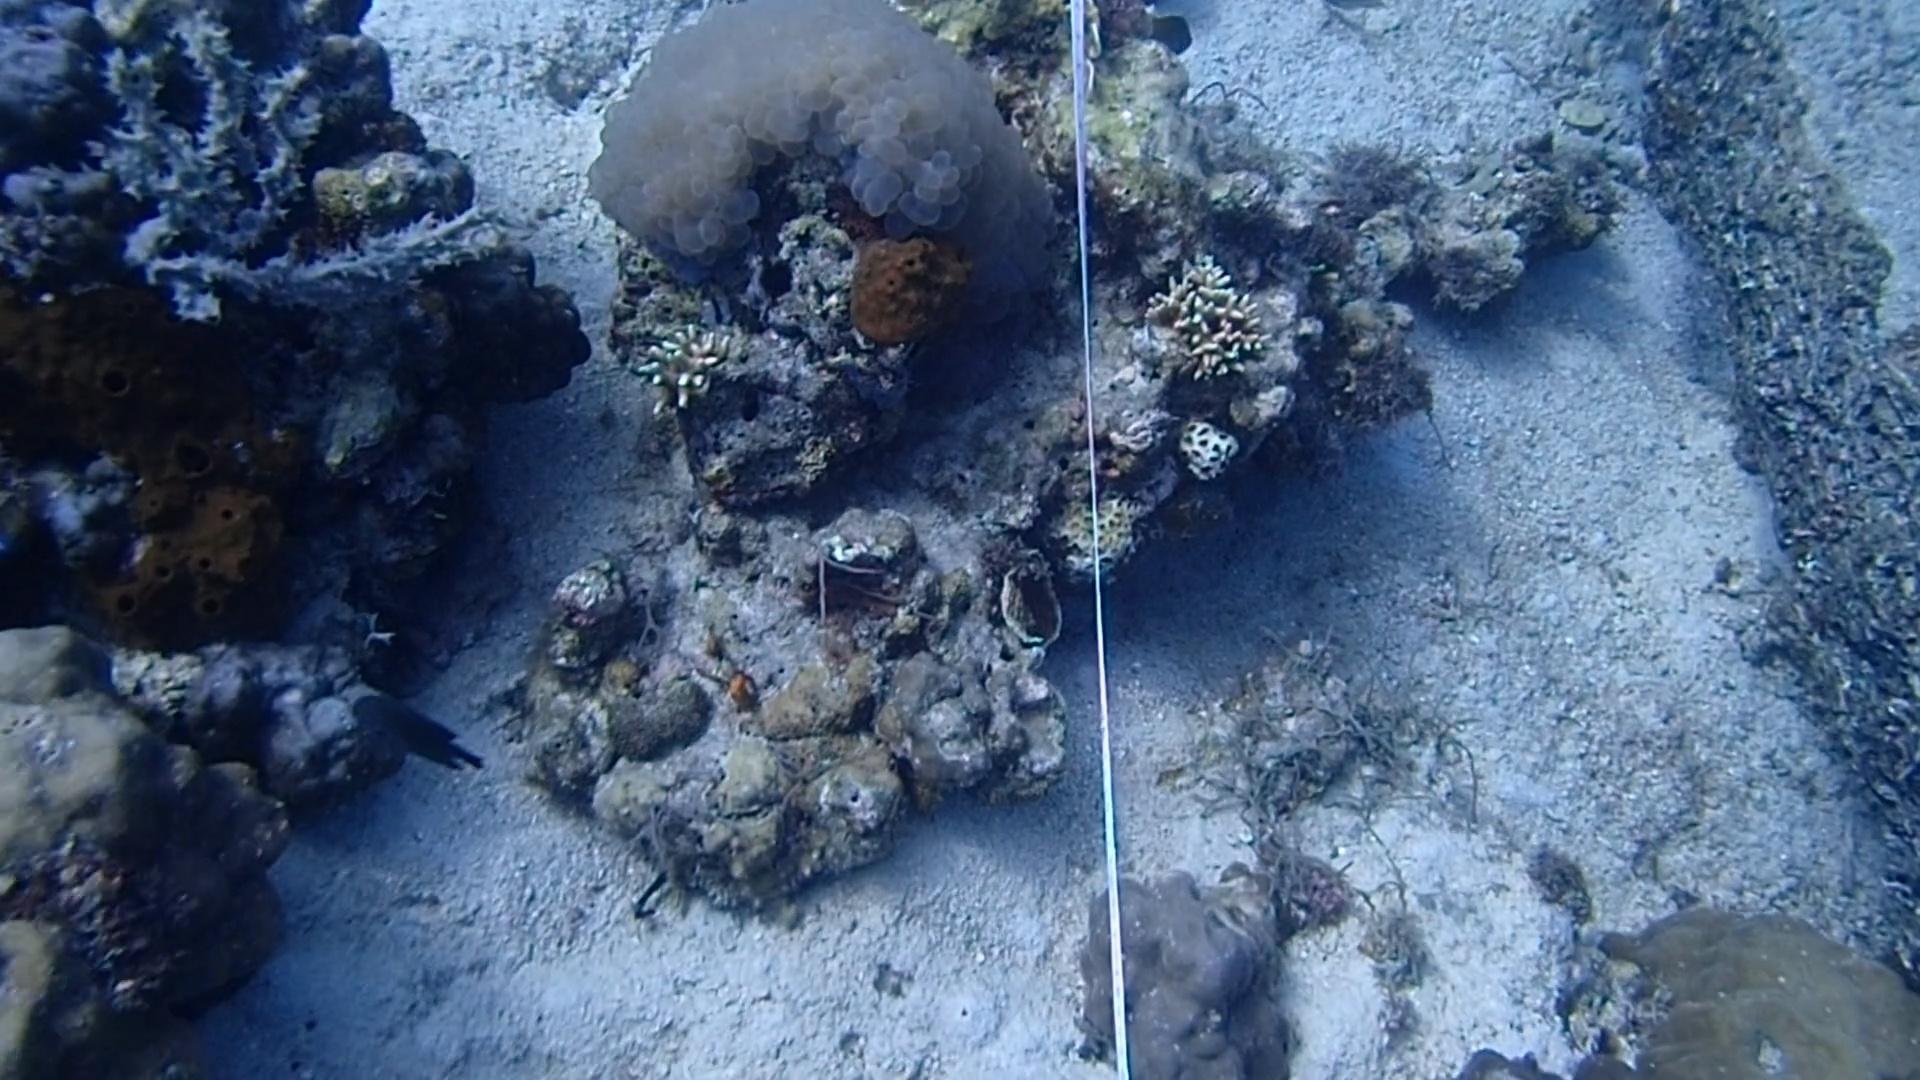Big Dark Blue Fish: (327, 678, 491, 787)
